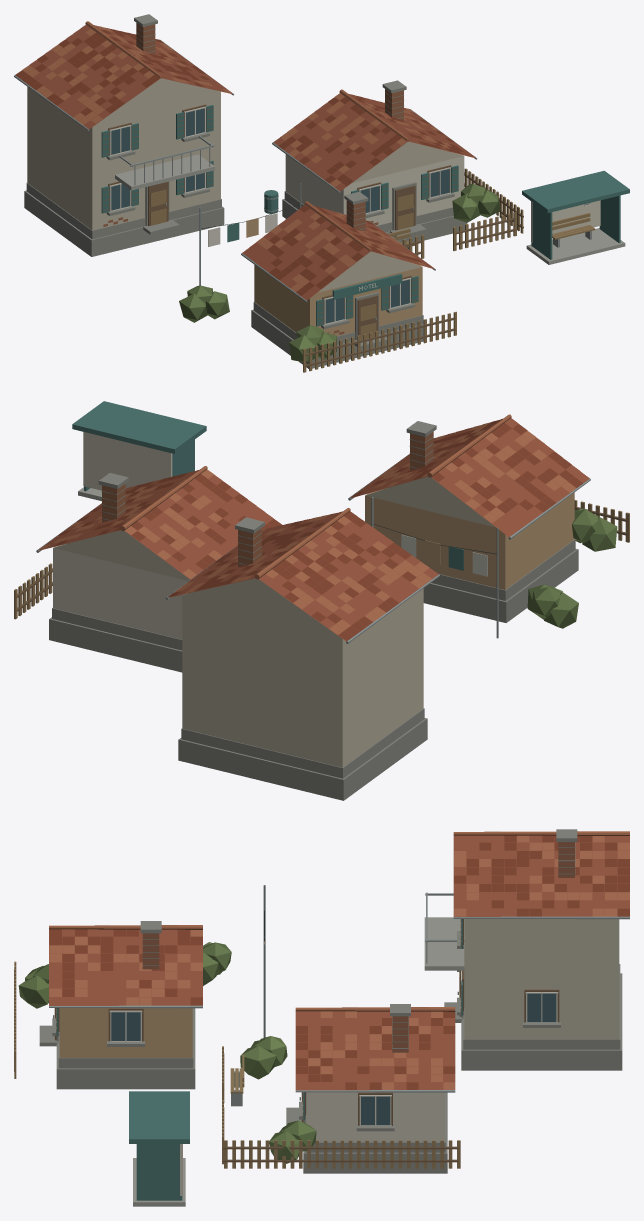
File: village.glb
3 renders of one model, top to bottom at view 1: azimuth 30°, elevation 25°; view 2: azimuth 150°, elevation 25°; view 3: azimuth 270°, elevation 25°, orthographic. The views are drawn at different scales.
Visible parts, largest first — view 1: village_visual; view 2: village_visual; view 3: village_visual.
Boxes of the visible parts, x1,y1,x2,y2 form: village_visual: (14,14,629,372); village_visual: (14,401,629,800); village_visual: (14,829,629,1206).
Size of what is drawn, in the model's own units: 20.53 by 8.63 by 22.23.
